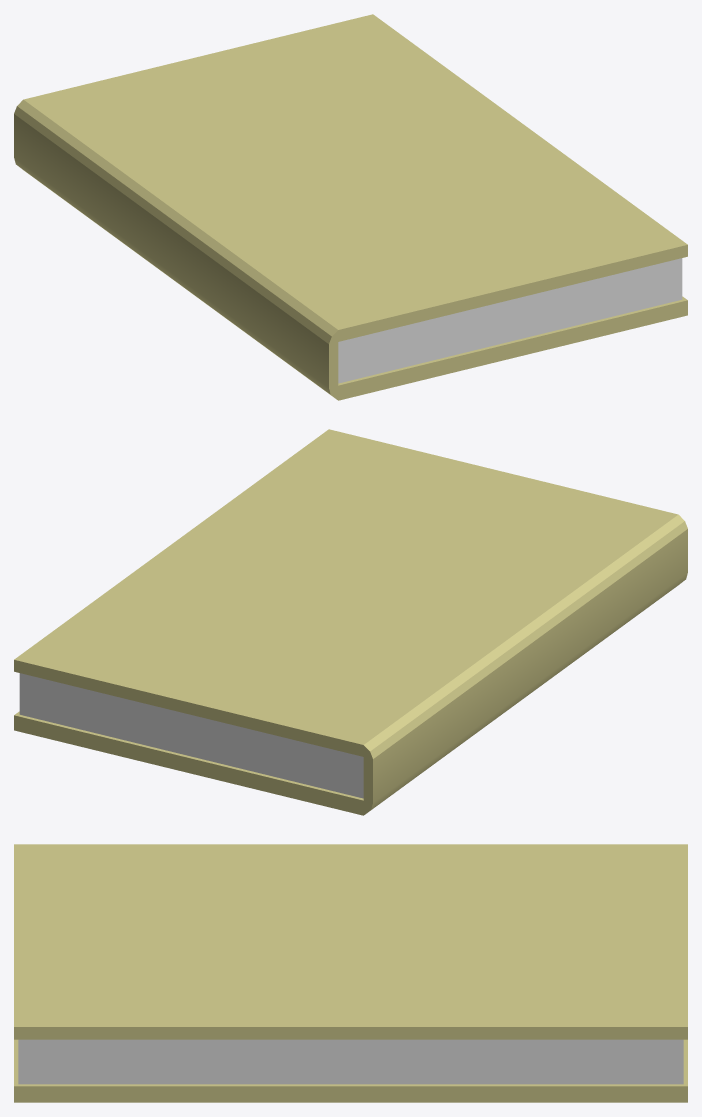
Rendered from libroAmarillo.fbx.
3 renders of one model, top to bottom at view 1: azimuth 30°, elevation 25°; view 2: azimuth 150°, elevation 25°; view 3: azimuth 270°, elevation 25°, orthographic. The views are drawn at different scales.
Visible parts, largest first — view 1: Cube; view 2: Cube; view 3: Cube.
Part boxes in pixels (left/top/right/bottom): Cube: left=14, top=14, right=687, bottom=400; Cube: left=14, top=429, right=687, bottom=815; Cube: left=14, top=844, right=687, bottom=1102.
Size of the model in its own units: 78.65 by 14.8 by 119.
